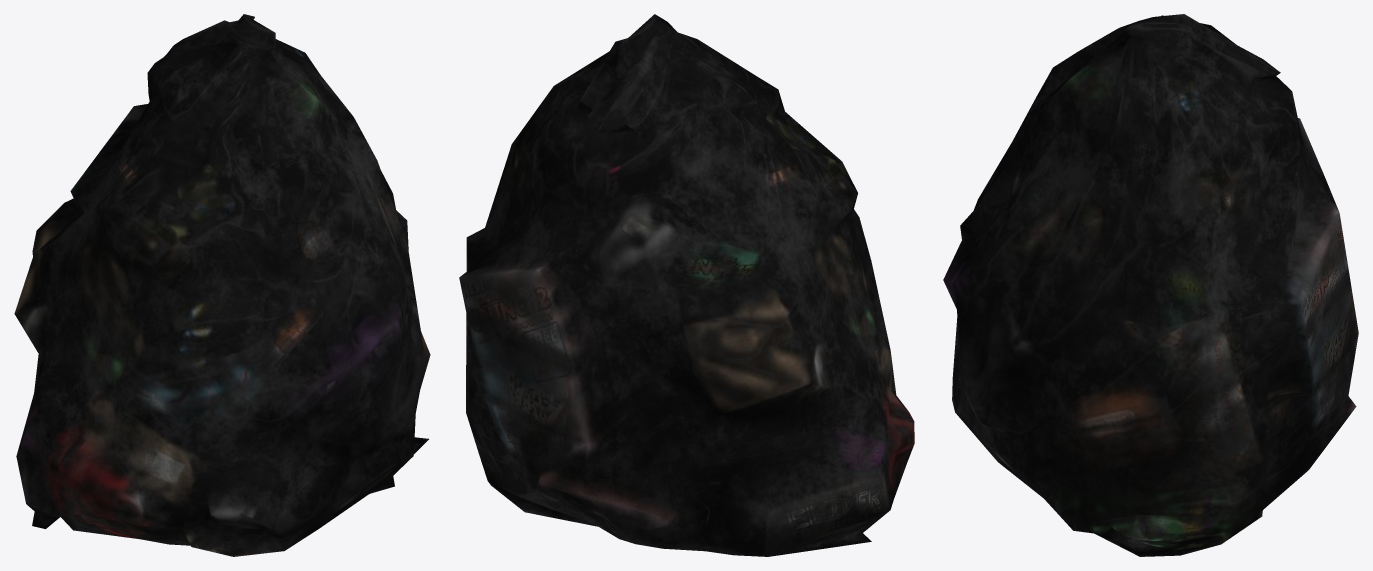
The model's file is trashbag.glb.
3 views of the same model, side by side, from view 1: azimuth 30°, elevation 25°; view 2: azimuth 150°, elevation 25°; view 3: azimuth 270°, elevation 25° (orthographic). The views are drawn at different scales.
Visible parts, largest first — view 1: trashbag; view 2: trashbag; view 3: trashbag.
Part boxes in pixels (box(x1,y1,x2,y2)): trashbag: box(14, 14, 430, 556); trashbag: box(459, 14, 914, 556); trashbag: box(943, 14, 1358, 556).
Size of the model in its own units: 0.5186 by 0.5684 by 0.4629.
Materials: 1 (1 with a texture image).
